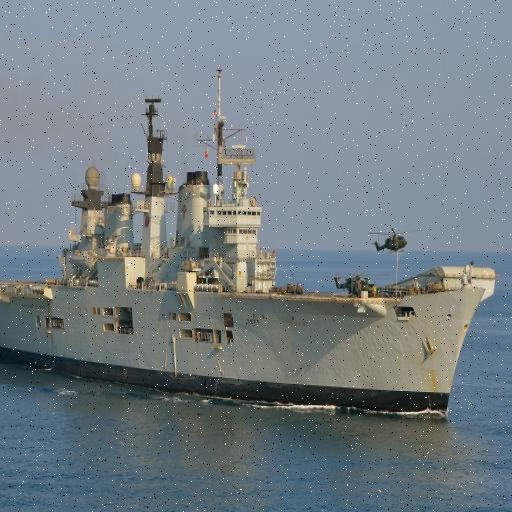Portanaves: (1, 59, 502, 428)
